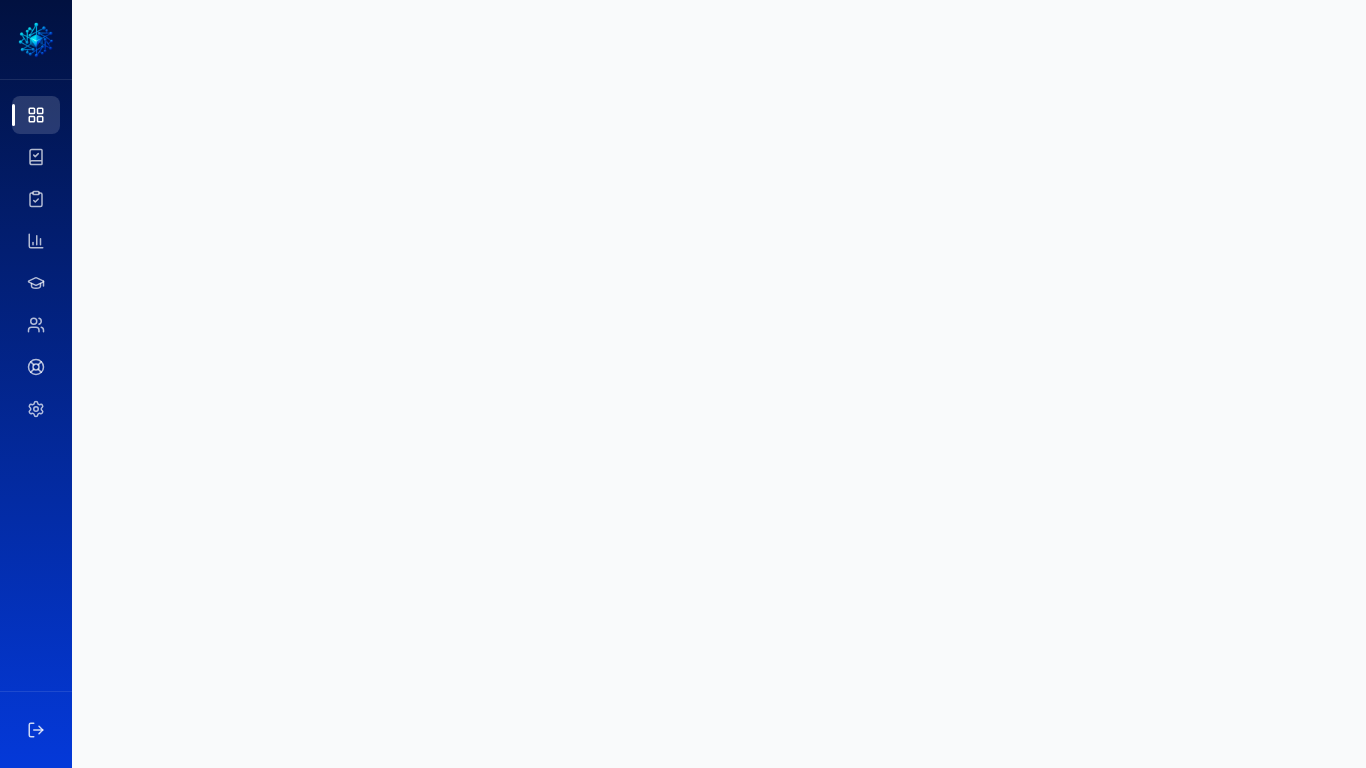
Test: contraído, Configuración despliega el menú un momento con sus nombres y se vuelve a contraer al elegir
The image size is (1366, 768).
Later steps or results of the test are not shown.
Click the button named "Configuración" at (36, 409), box [12,390,60,428]
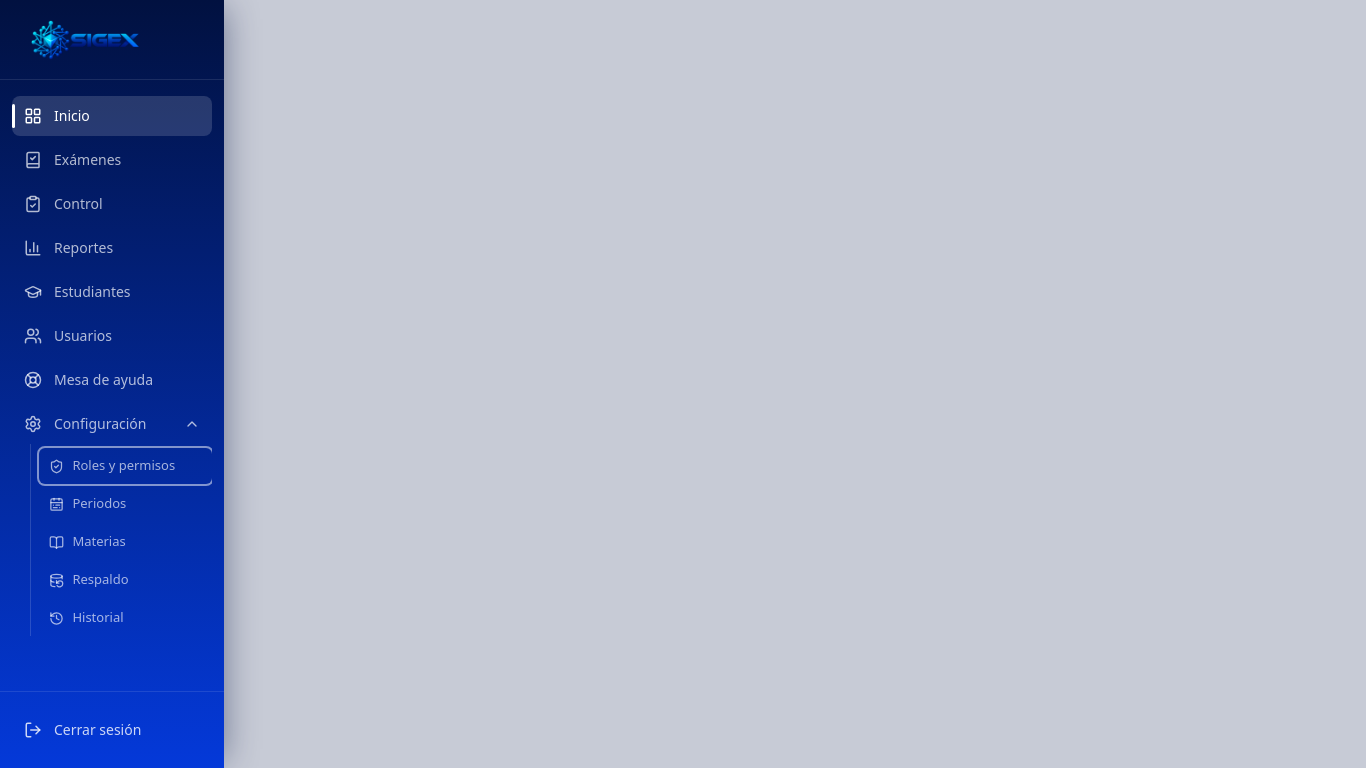
Now the button "Configuración" is expanded, box [12,404,212,444]
